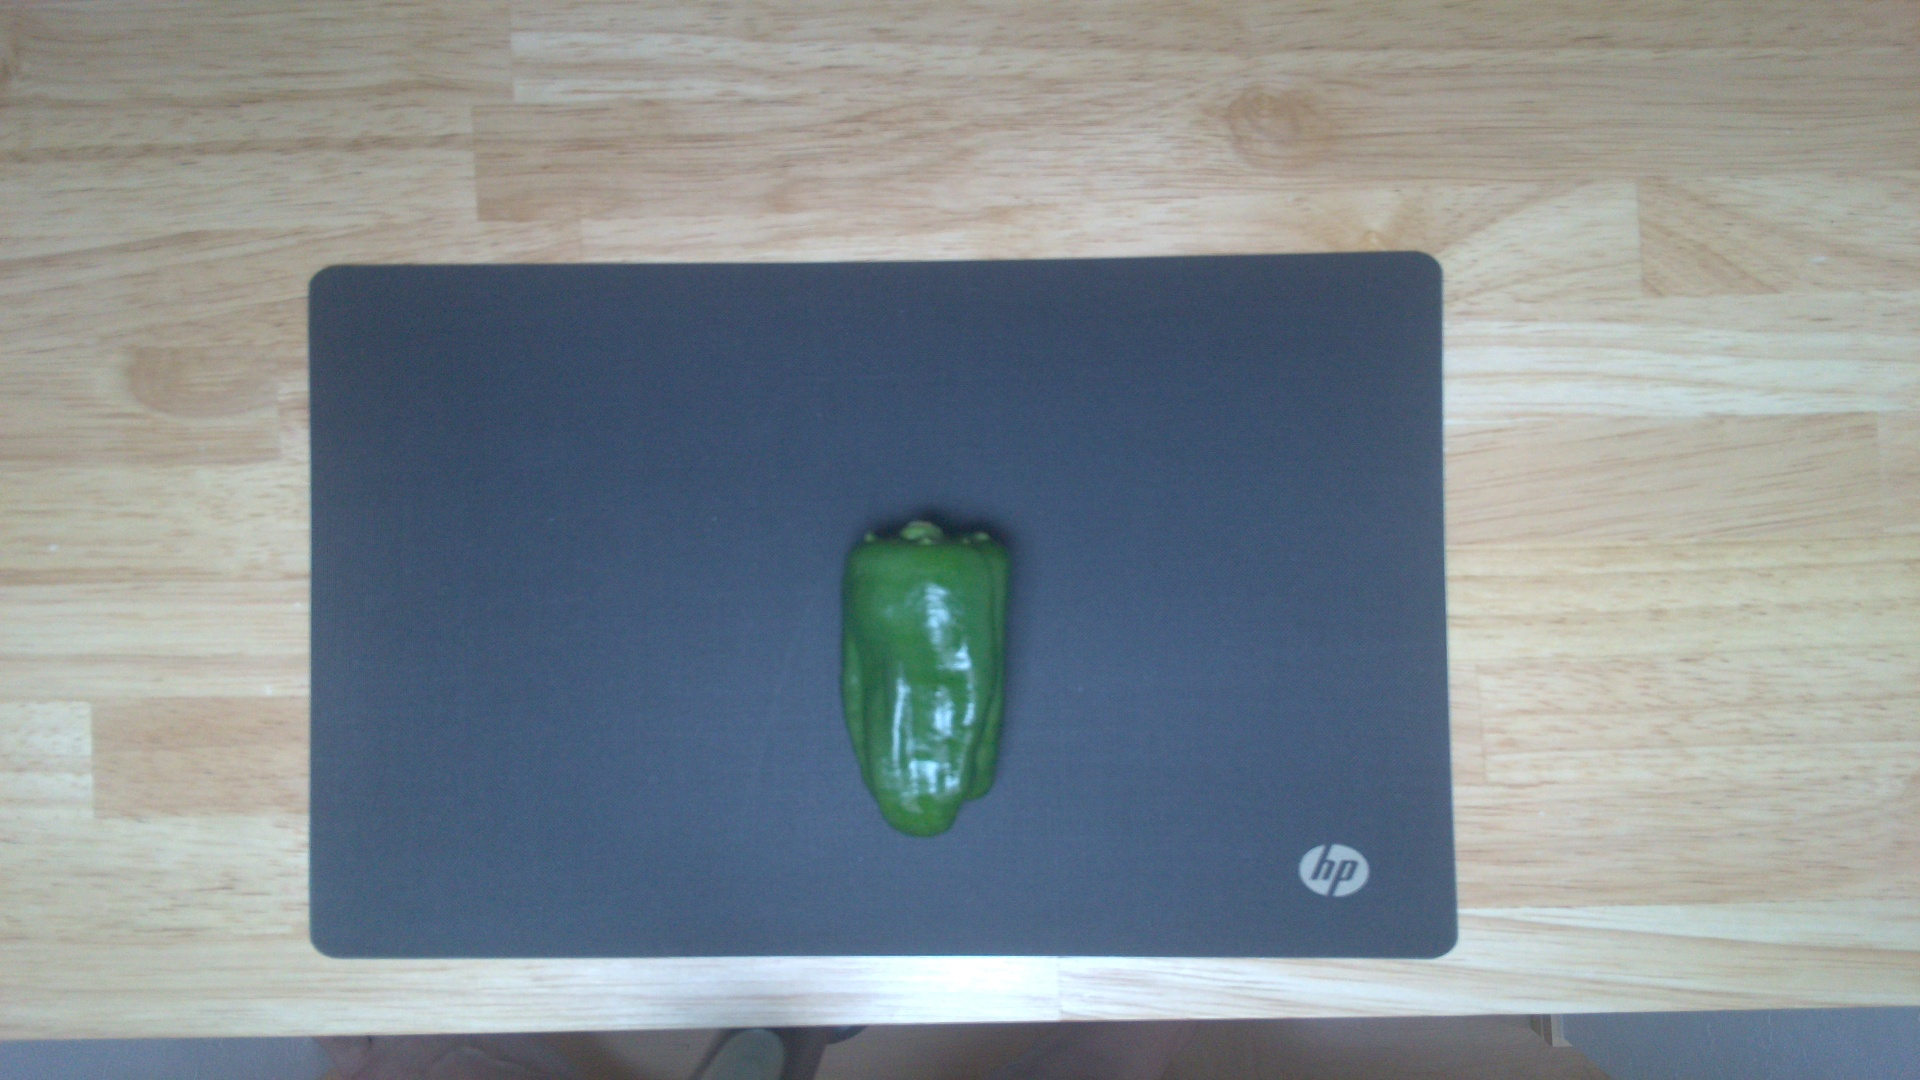Piman: (833, 512, 1015, 841)
